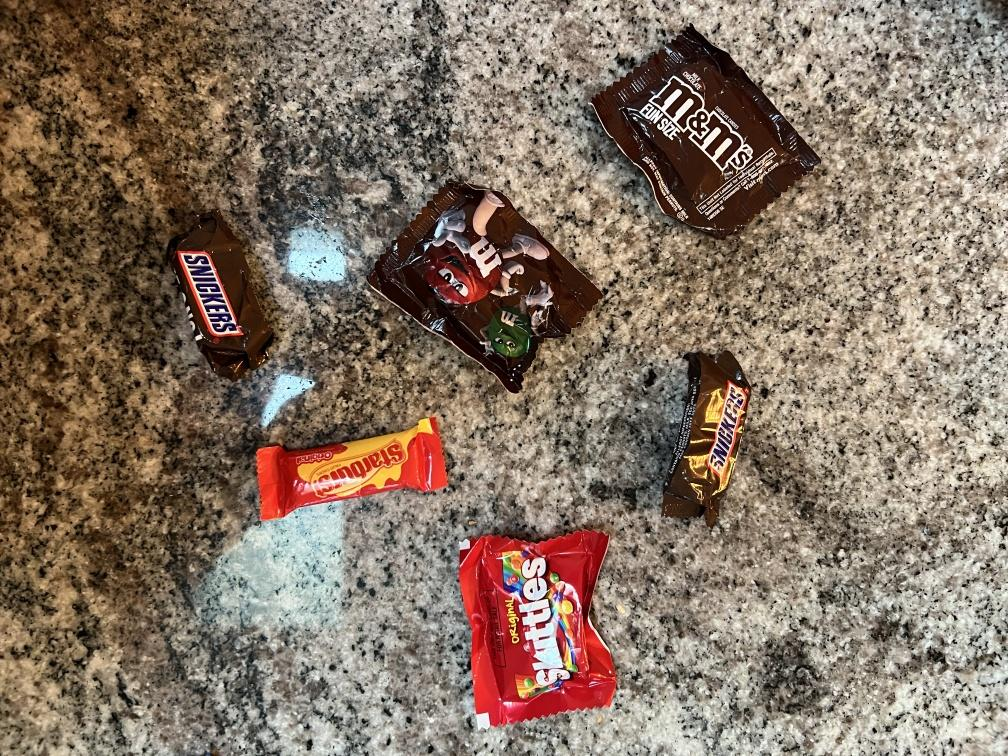MM_regular: (590, 25, 822, 238), (366, 179, 595, 392)
Snickers: (165, 210, 279, 379)
milky_way: (658, 350, 749, 528)
skittles: (463, 530, 622, 728)
starburst: (258, 418, 447, 519)
